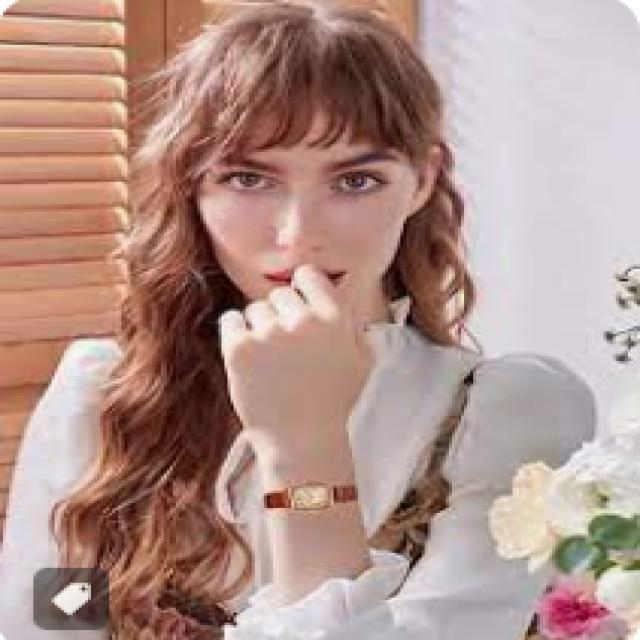Watch: (263, 482, 367, 517)
